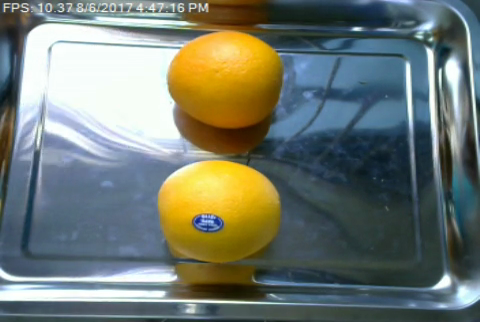Orange: (157, 158, 282, 265), (167, 30, 284, 128)
